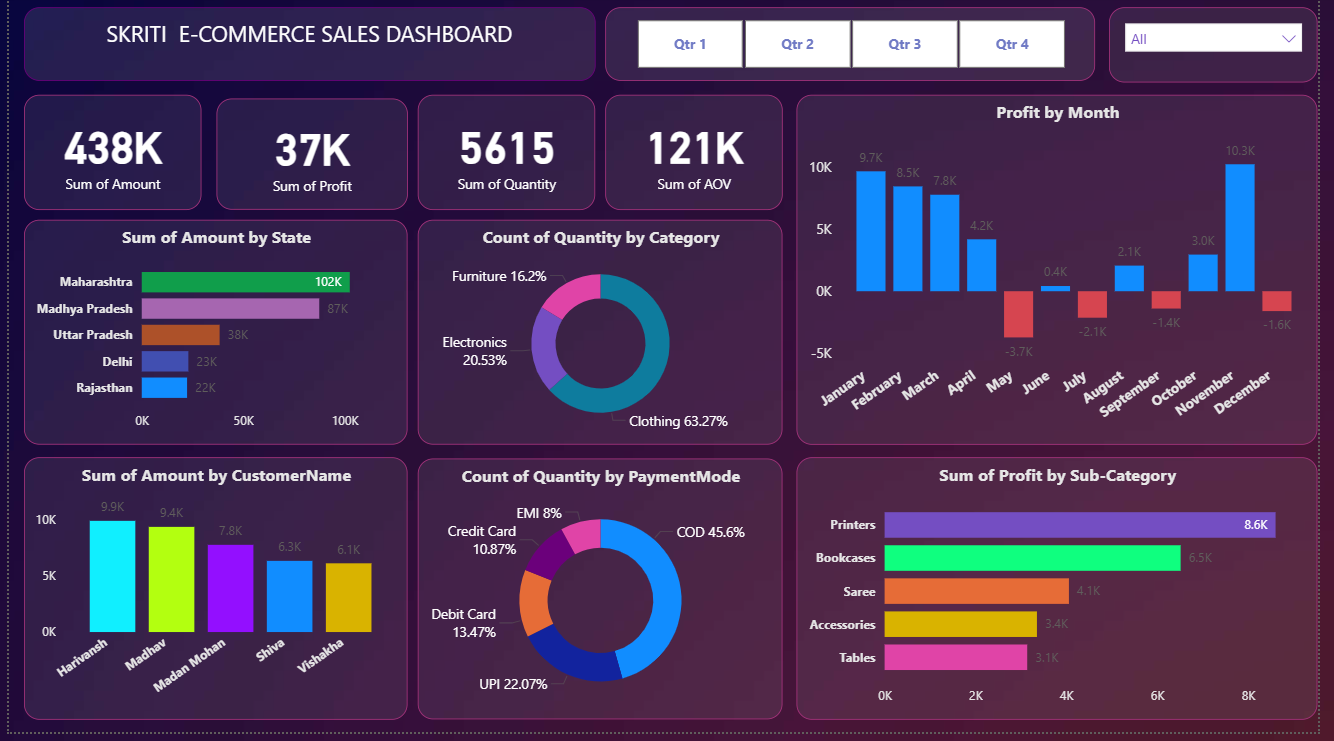

The page's visual inventory and layout, read from the dashboard file:
{"tool":"powerbi","page":{"name":"Page 1","canvas":[1280,720],"ordinal":0},"visuals":[{"type":"columnChart","title":"Profit by Month","fields":{"Category":["Orders.Order Date.Variation.Date Hierarchy.Month"],"Y":["Sum(Details.Profit)"]},"box":[770.4,96.6,509.9,342.4],"z":0},{"type":"barChart","fields":{"Y":["Sum(Details.Profit)"],"Category":["Details.Sub-Category"]},"box":[770.4,451.2,509.9,256.8],"z":1000},{"type":"donutChart","fields":{"Category":["Details.Category"],"Y":["CountNonNull(Details.Quantity)"]},"box":[399.9,218.9,357.1,220.1],"z":2000},{"type":"donutChart","fields":{"Y":["CountNonNull(Details.Quantity)"],"Category":["Details.PaymentMode"]},"box":[399.9,452.4,357.1,255.6],"z":3000},{"type":"card","fields":{"Values":["Sum(Details.Amount)"]},"box":[14.7,96.6,173.6,112.5],"z":4000},{"type":"barChart","fields":{"Category":["Orders.State"],"Y":["Sum(Details.Amount)"]},"box":[14.7,218.9,375.4,220.1],"z":5000},{"type":"columnChart","fields":{"Category":["Orders.CustomerName"],"Y":["Sum(Details.Amount)"]},"box":[14.7,451.2,375.4,256.8],"z":6000},{"type":"slicer","fields":{"Values":["Orders.Order Date.Variation.Date Hierarchy.Quarter"]},"box":[583.3,11,479.4,72.1],"z":7000},{"type":"slicer","fields":{"Values":["Orders.State"]},"box":[1076.1,11,204.2,73.4],"z":8000},{"type":"textbox","box":[14.7,11,558.8,72.1],"z":9000},{"type":"card","fields":{"Values":["Sum(Details.Profit)"]},"box":[203,100.3,187.1,108.8],"z":10000},{"type":"card","fields":{"Values":["Sum(Details.Quantity)"]},"box":[399.9,96.6,173.6,112.5],"z":11000},{"type":"card","fields":{"Values":["Sum(Details.AOV)"]},"box":[583.3,96.6,173.6,112.5],"z":12000}]}

Visuals, with their boxes in screenshot pixels (x1, y1, x2, y2), scaled from the page's 1280x720 canvas onto the 1334x741 screenshot:
"Profit by Month" columnChart: detection(803, 99, 1333, 452)
barChart - Sum(Details.Profit) x Details.Sub-Category: detection(803, 464, 1333, 729)
donutChart - Details.Category x CountNonNull(Details.Quantity): detection(417, 225, 789, 452)
donutChart - CountNonNull(Details.Quantity) x Details.PaymentMode: detection(417, 466, 789, 729)
card - Sum(Details.Amount): detection(15, 99, 196, 215)
barChart - Orders.State x Sum(Details.Amount): detection(15, 225, 407, 452)
columnChart - Orders.CustomerName x Sum(Details.Amount): detection(15, 464, 407, 729)
slicer - Orders.Order Date.Variation.Date Hierarchy.Quarter: detection(608, 11, 1108, 86)
slicer - Orders.State: detection(1121, 11, 1333, 87)
textbox: detection(15, 11, 598, 86)
card - Sum(Details.Profit): detection(212, 103, 407, 215)
card - Sum(Details.Quantity): detection(417, 99, 598, 215)
card - Sum(Details.AOV): detection(608, 99, 789, 215)
